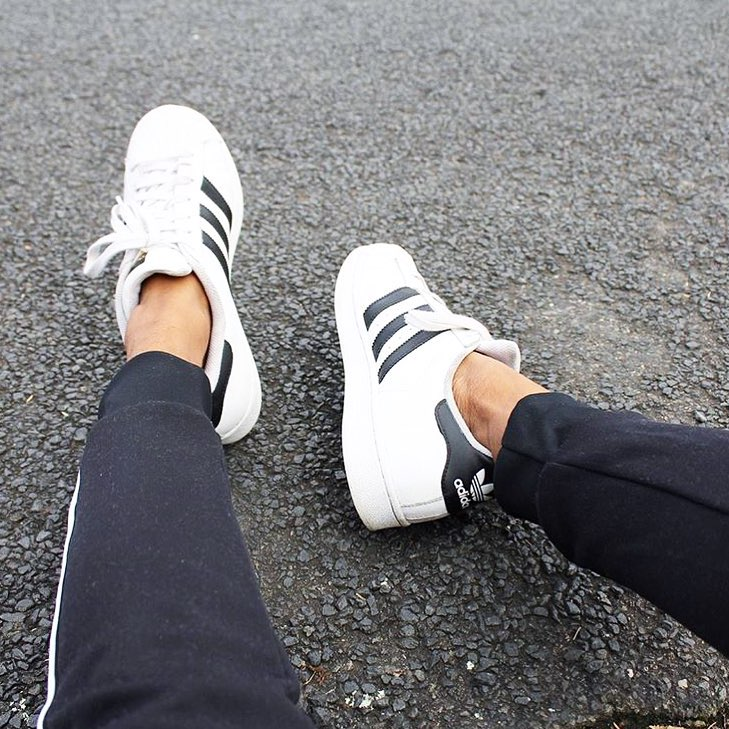sneaker: (70, 96, 290, 458), (309, 232, 544, 559)
